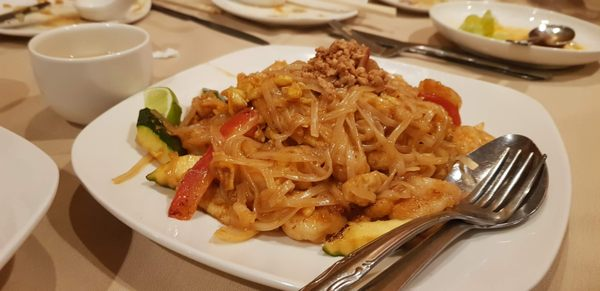sushi: (26, 21, 154, 126), (426, 0, 591, 75)
